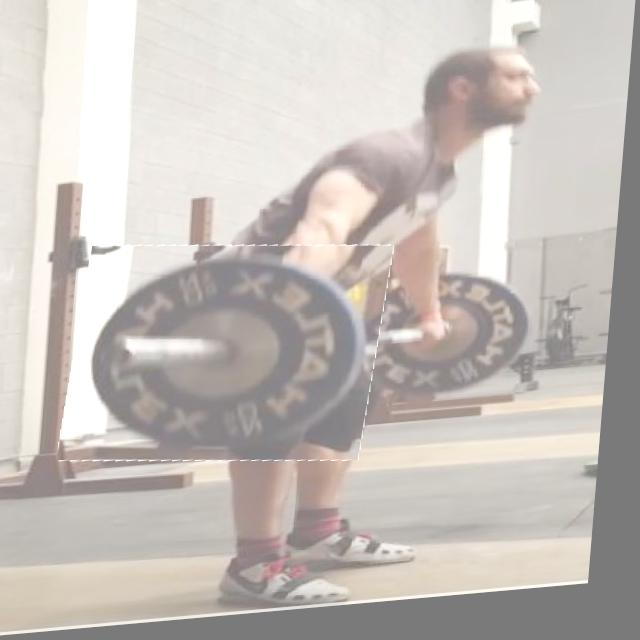barbell: (69, 234, 396, 483)
